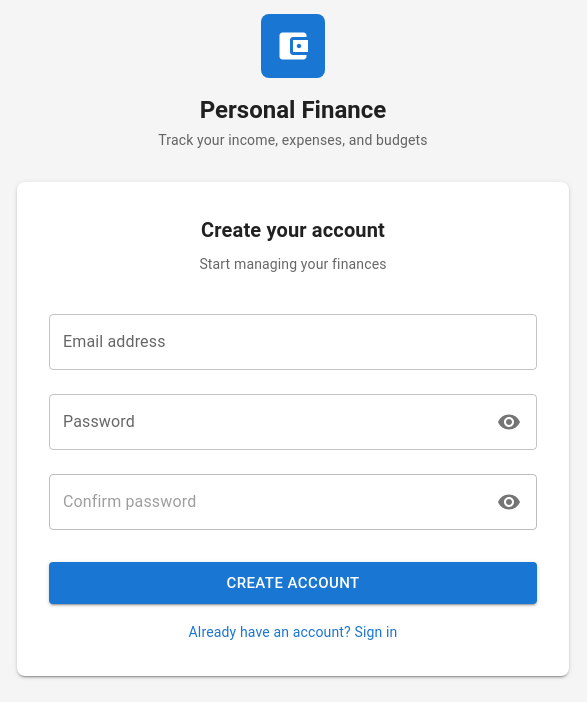
Scenario: RegisterPage › should show validation error for invalid email
Expected: the button "Create account" is shown, [49,562,537,604]
Type "invalid-email" into the field labelled "Email address".
click(293, 342); type("invalid-email")  # box [49,314,537,370]
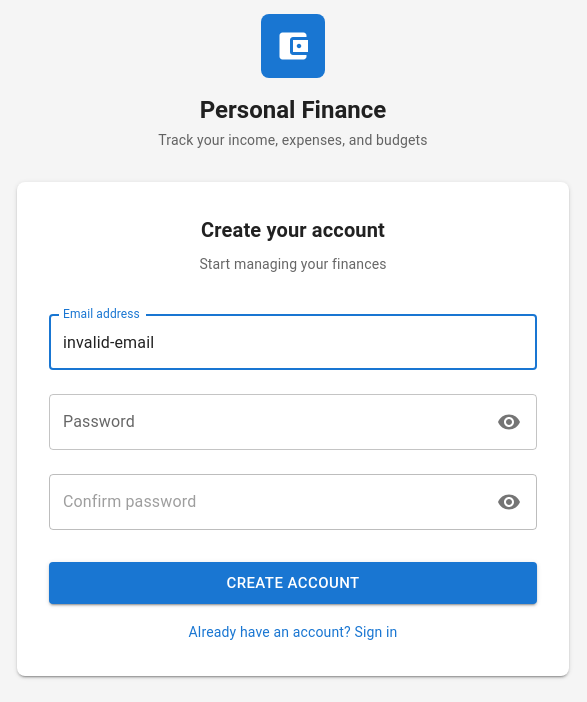
Type "SecurePass123!" into the password field labelled "Password".
click(266, 422); type("SecurePass123!")  # box [49,394,484,450]
(page scrolled)
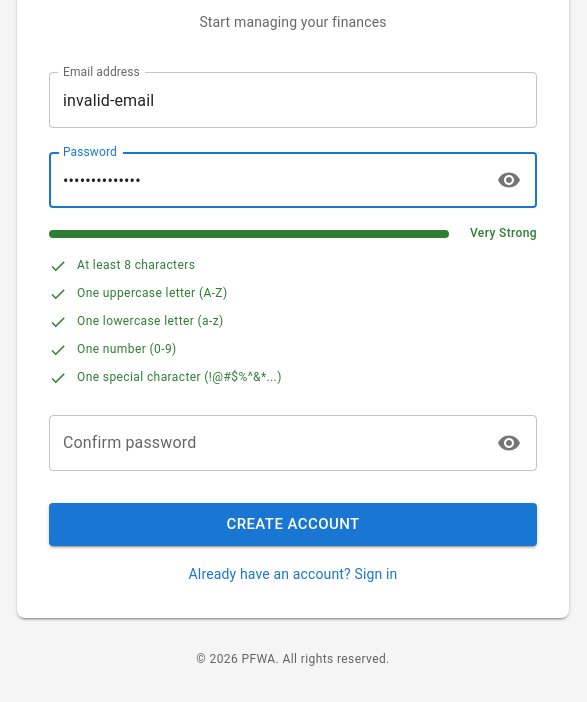
Type "SecurePass123!" into the password field labelled "Confirm password".
click(266, 444); type("SecurePass123!")  # box [49,416,484,472]
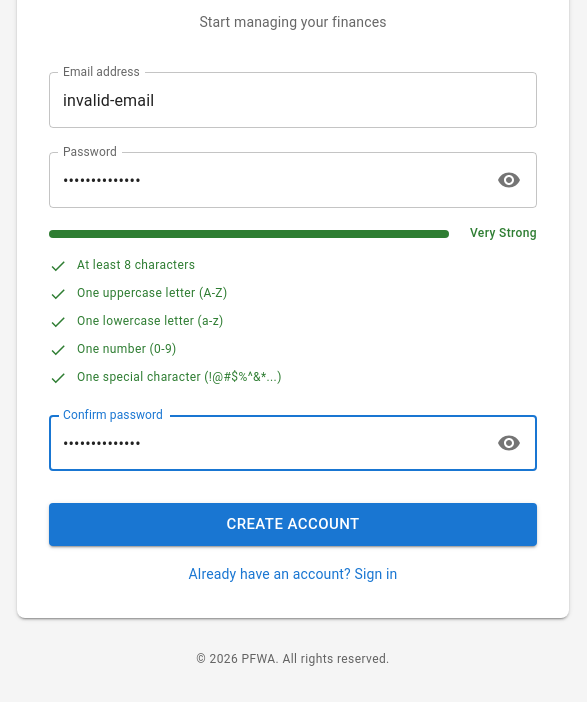
Click the button "Create account".
click(293, 525)  # box [49,504,537,546]
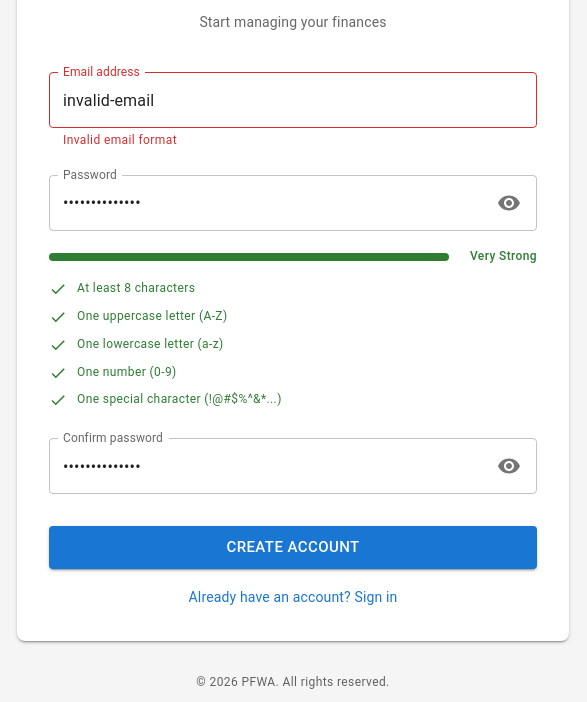
Expected: the text "Invalid email format" is shown, [63,133,177,147]
